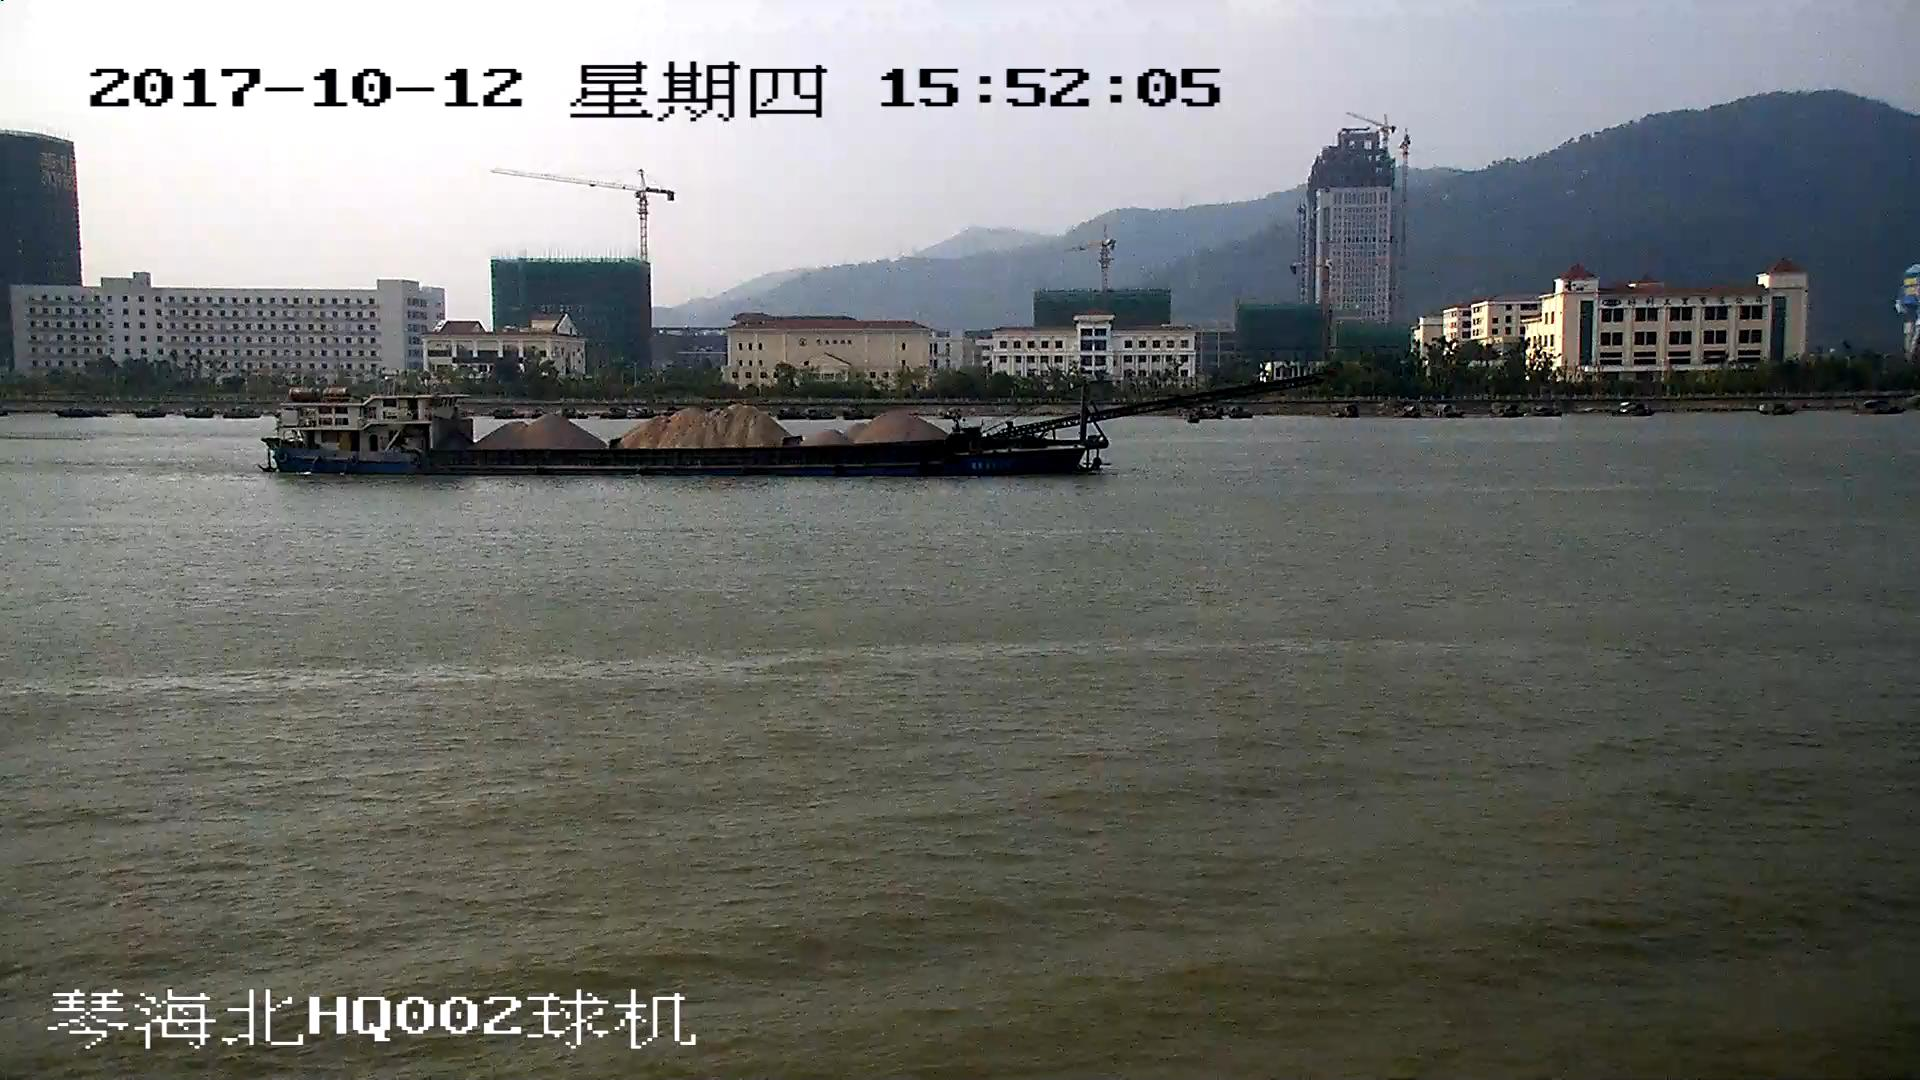ore carrier: (266, 372, 1318, 478)
